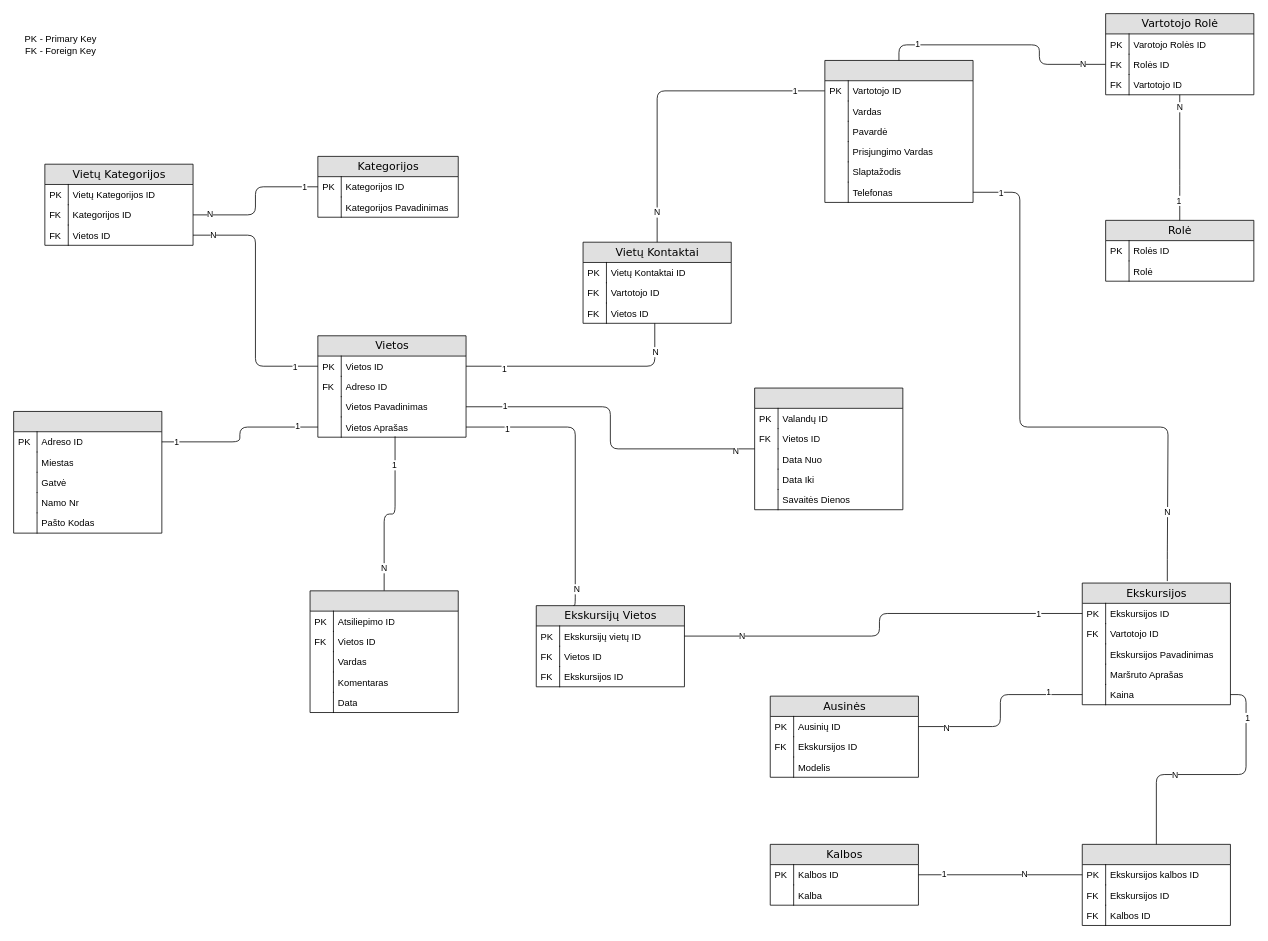
Image size: 1268x941. Some labels were removed from this diagram. The box of each missing label's shape, as (x1, y1, x2, y2) in pixels:
Adresai: (13, 411, 162, 533)
Atsiliepimai: (309, 590, 458, 713)
Darbo Valandos: (754, 387, 903, 510)
Ekskursijos kalba: (1081, 844, 1230, 925)
Vartotojas: (824, 60, 973, 202)
